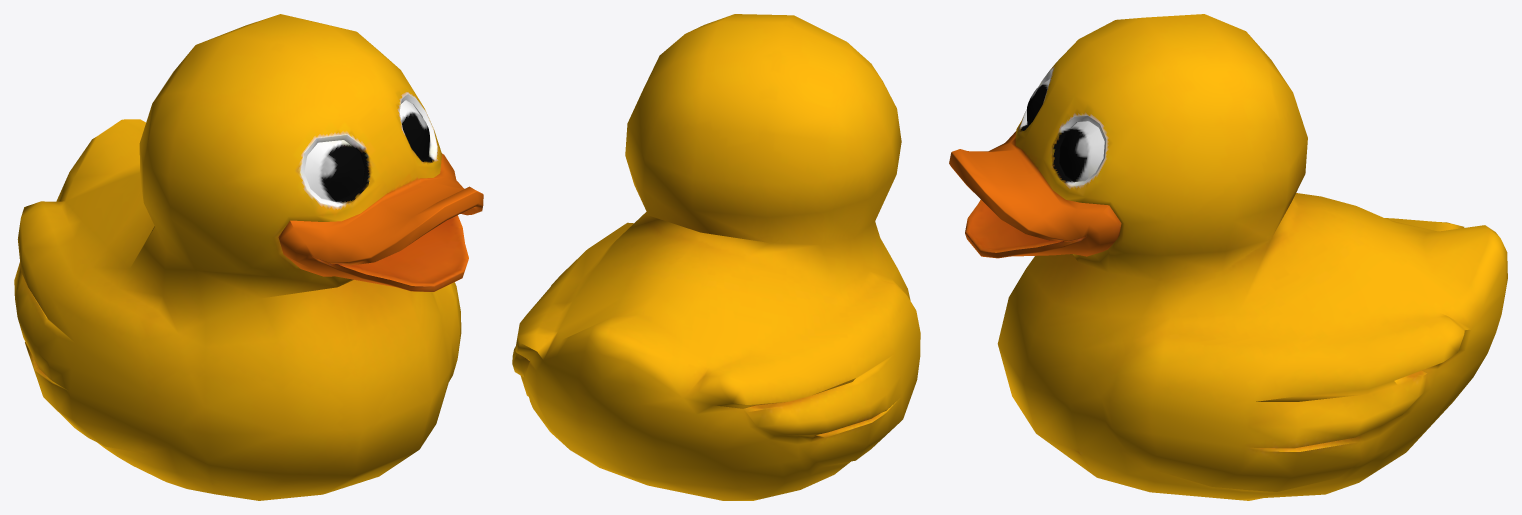
The model's file is 0-duck.fbx.
3 views of the same model, side by side, from view 1: azimuth 30°, elevation 25°; view 2: azimuth 150°, elevation 25°; view 3: azimuth 270°, elevation 25° (orthographic). The views are drawn at different scales.
Visible parts, largest first — view 1: 0-duck; view 2: 0-duck; view 3: 0-duck.
Part boxes in pixels (box(x1,y1,x2,y2)): 0-duck: box(14, 14, 483, 500); 0-duck: box(512, 14, 920, 500); 0-duck: box(949, 14, 1507, 500).
Bounding box in the file's own units: 73.34 × 85.64 × 97.15.
